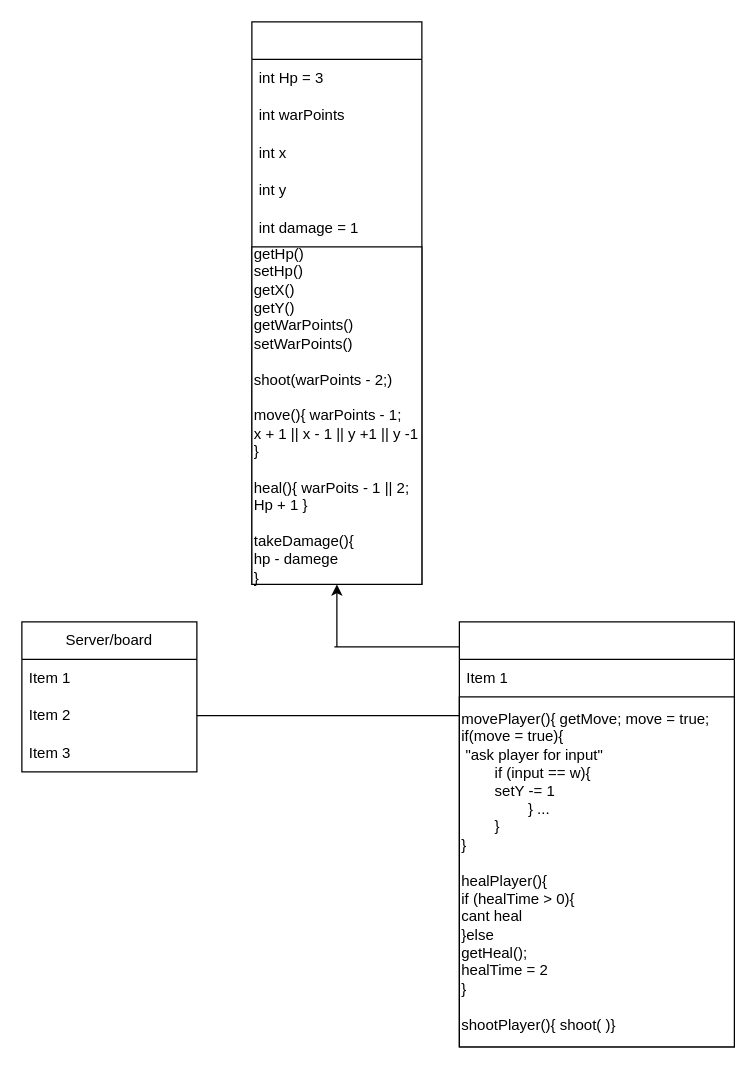
Some shapes in this 756 by 1069 pixel diagram are drawn without their labels. The shapes that lost their labels are listed below. From the top down, each one's box as (x1, y1, x2, y2) in pixels, then its label:
(251, 21, 422, 584): tank (player)
(458, 621, 734, 1047): Client
